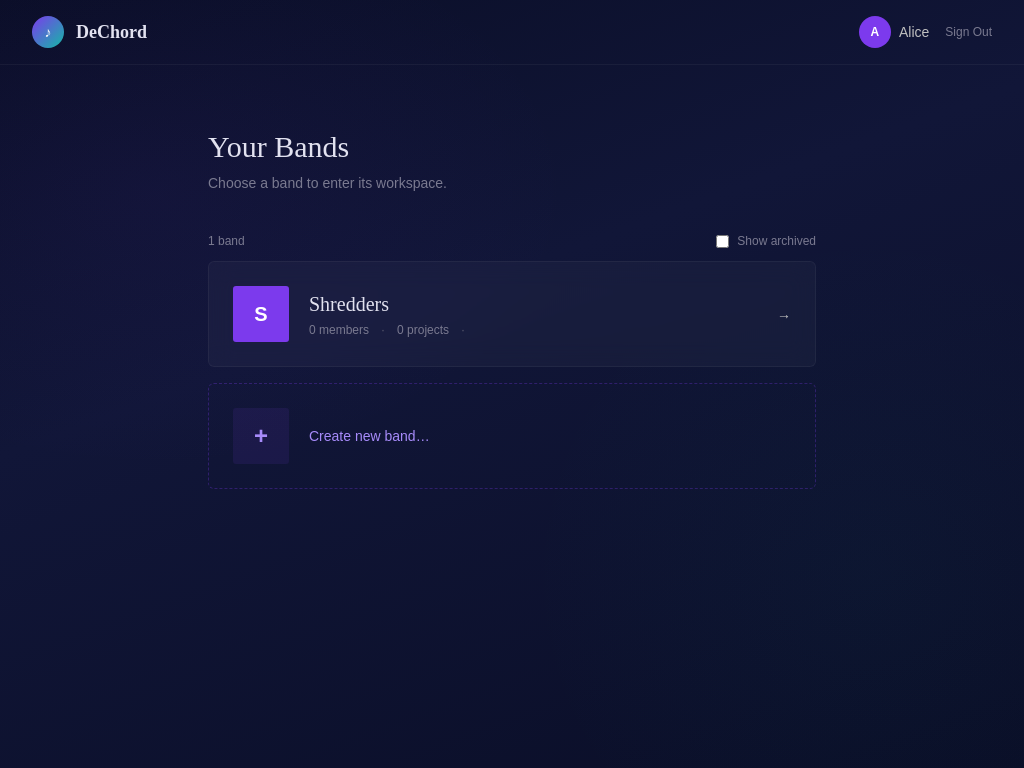
Test case: BandSelectPage — additional band creation › clicking the ghost card shows the inline creation form
The image size is (1024, 768).
What coordinates should you click on to do the following:
click the text "Create new band…"
I would click on:
 (369, 436)
Its box is top-left (309, 426), bottom-right (430, 446).
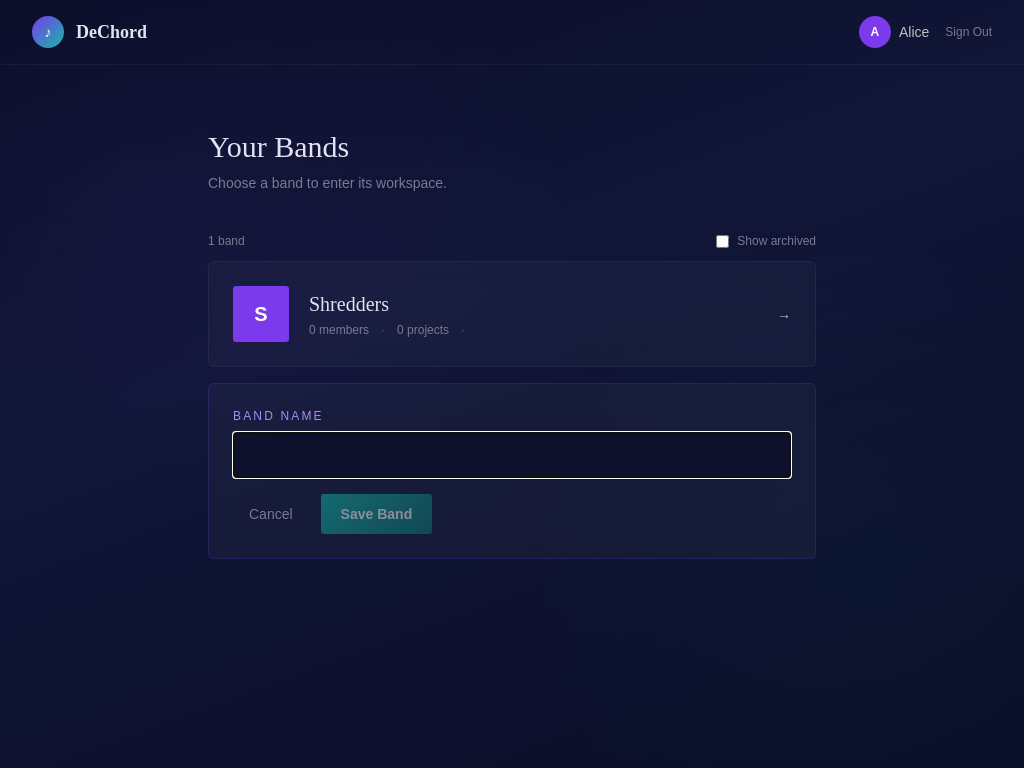
Result: the field labelled "Band Name" is shown at top-left (233, 432), bottom-right (791, 478)
